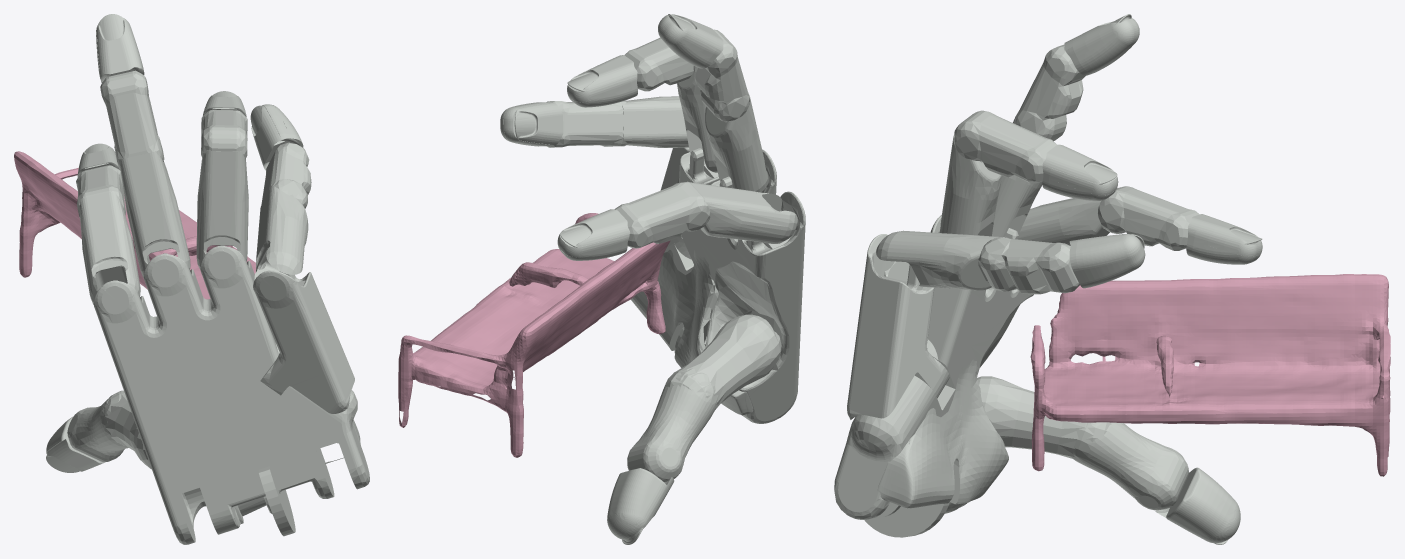
3 renders of one model, left to right at view 1: azimuth 30°, elevation 25°; view 2: azimuth 150°, elevation 25°; view 3: azimuth 270°, elevation 25°, orthographic. The views are drawn at different scales.
Parts seen in each view (by area): view 1: hand_isaac_q, world; view 2: hand_isaac_q, world; view 3: hand_isaac_q, world.
Part boxes in pixels (x1,y1,x2,y2): hand_isaac_q: [46, 14, 369, 544]; world: [14, 151, 256, 299]; hand_isaac_q: [500, 14, 805, 544]; world: [398, 213, 670, 457]; hand_isaac_q: [834, 14, 1262, 544]; world: [1030, 274, 1390, 476].
Bounding box in the file's own units: 0.1104 × 0.2121 × 0.2027.
